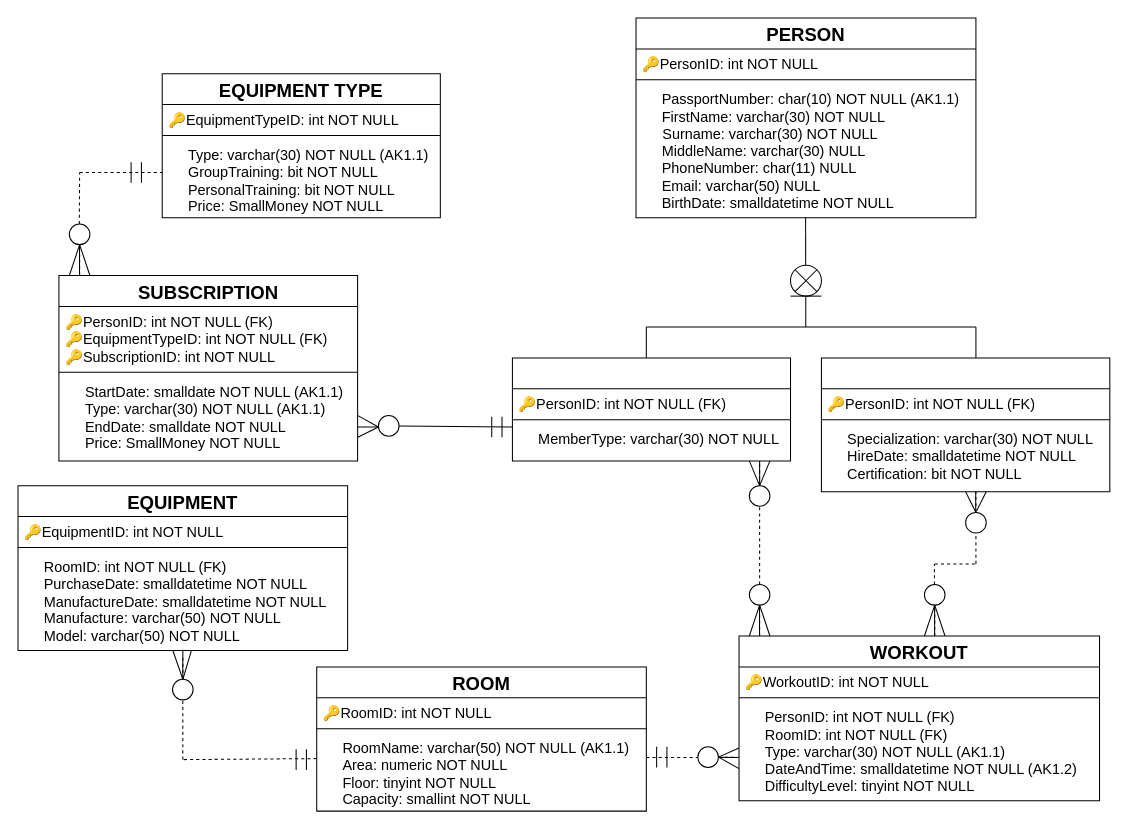
This 1128x832 diagram has some shape labels left out. The box of each missing label's shape, as (x1, y1, x2, y2) in pixels:
CLIENT: (511, 357, 791, 461)
TRAINER: (820, 357, 1110, 492)
